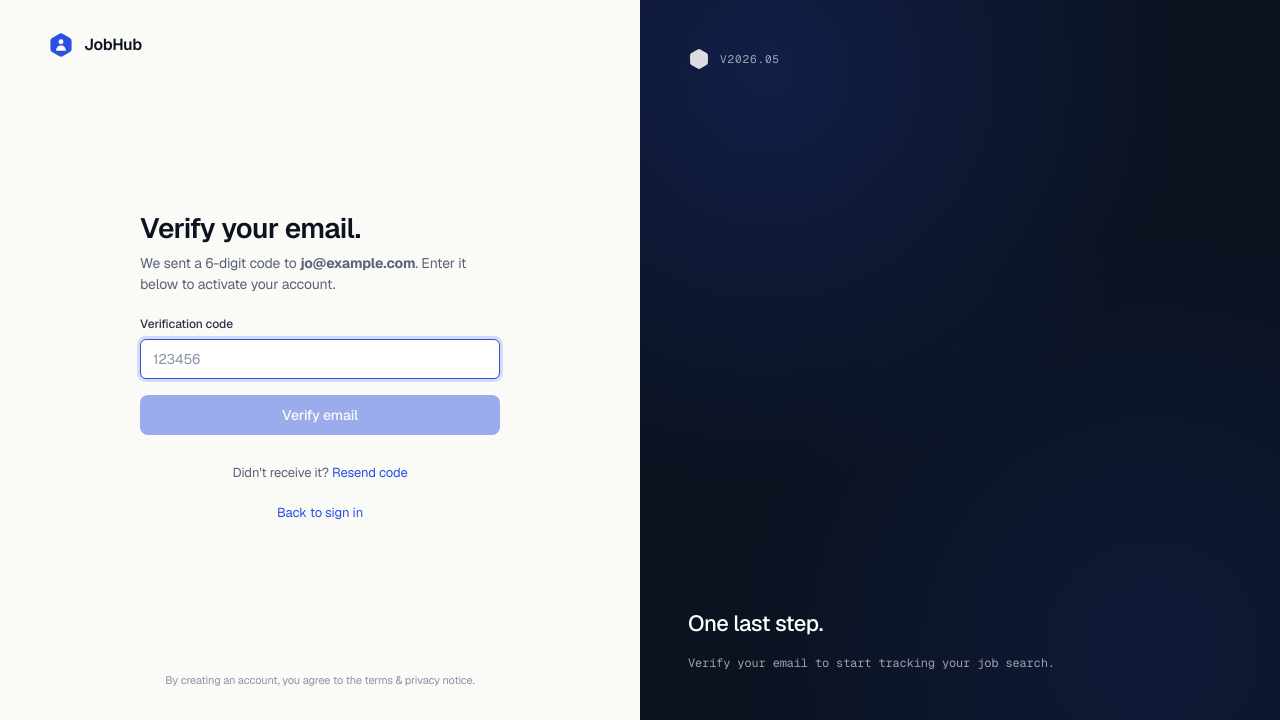
Scenario: EV-FE-05: Resend 429 shows 'try again later' message › shows throttle message when resendVerification throws 429
The image size is (1280, 720).
Click the button "Resend code" at (370, 473), box [332,464,408,481]
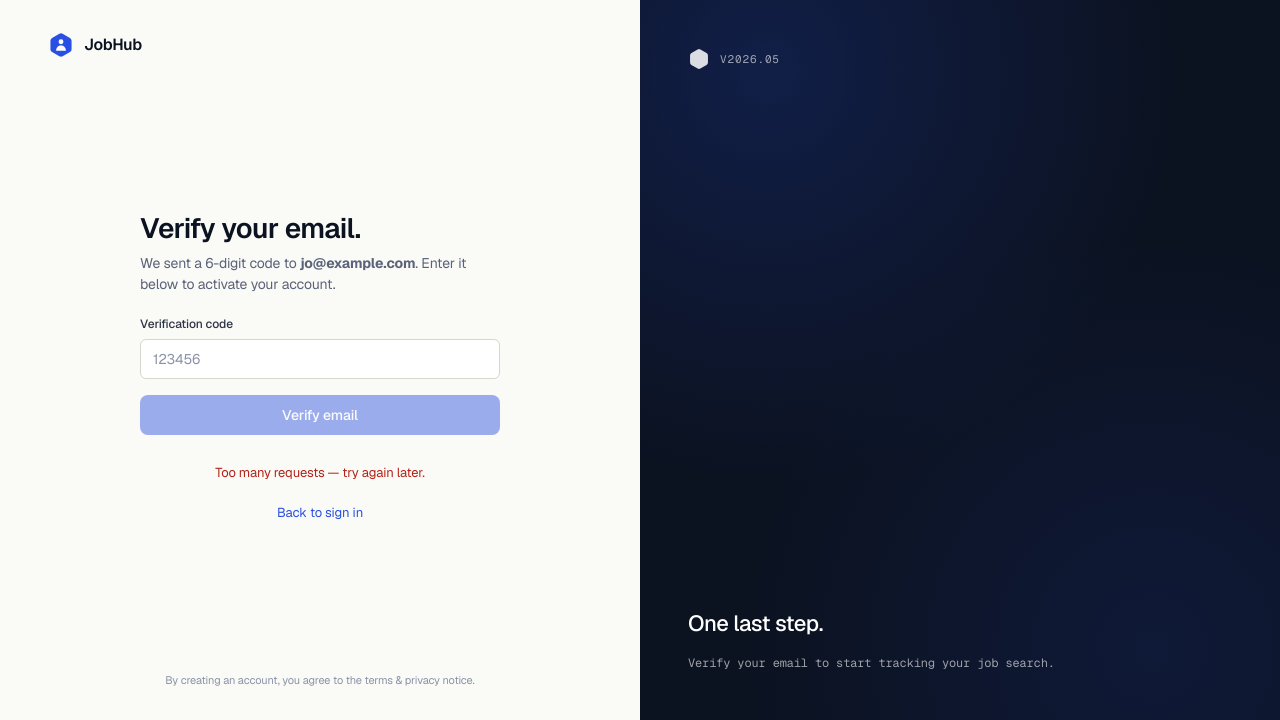
Expected: the text "Too many requests — try again later." is shown, [215,464,425,481]
